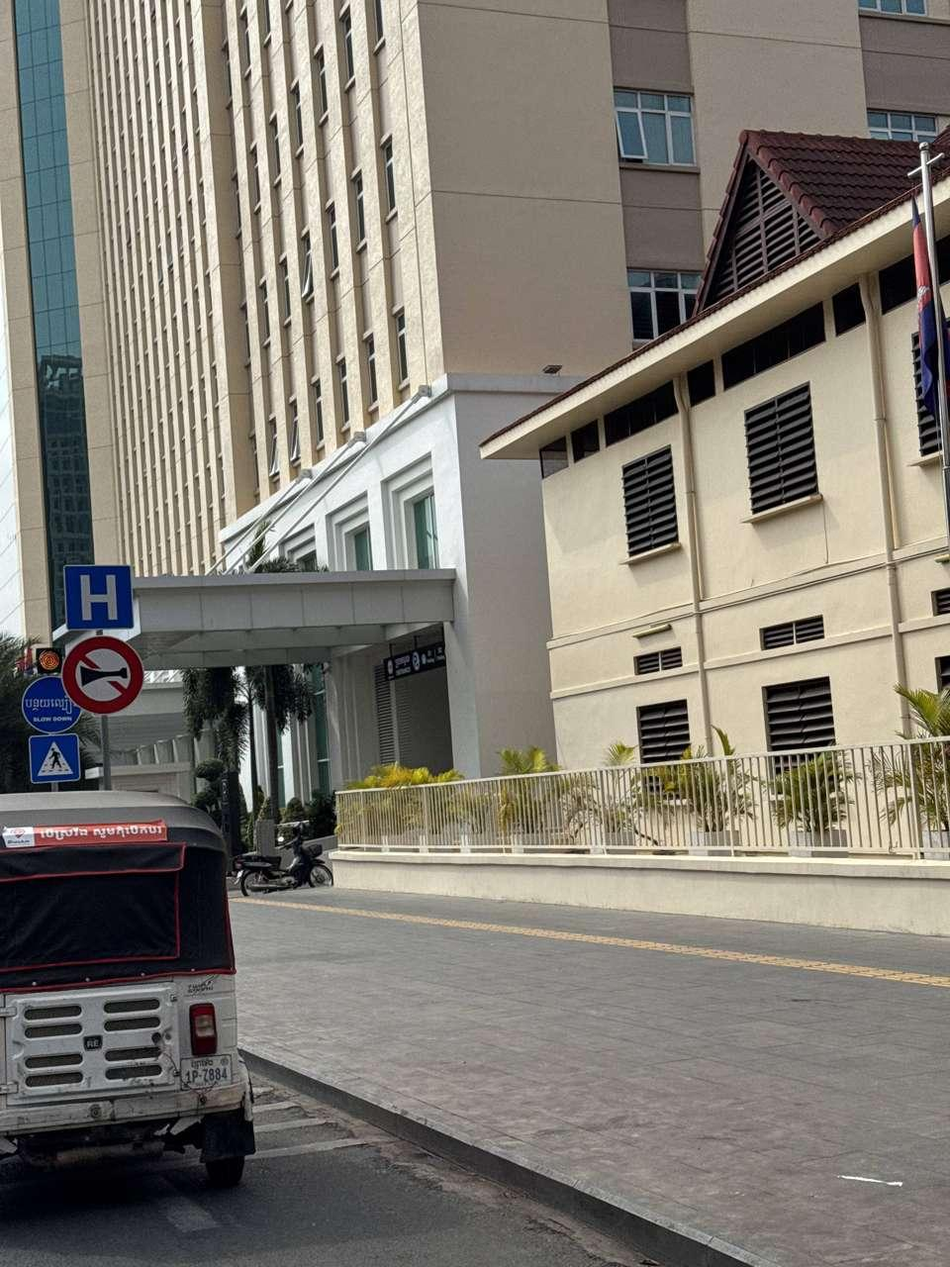hospital: (61, 563, 137, 628)
no_honking: (64, 637, 145, 716)
pedestrian_crossing: (28, 732, 81, 784)
slow_down: (22, 677, 84, 733)
